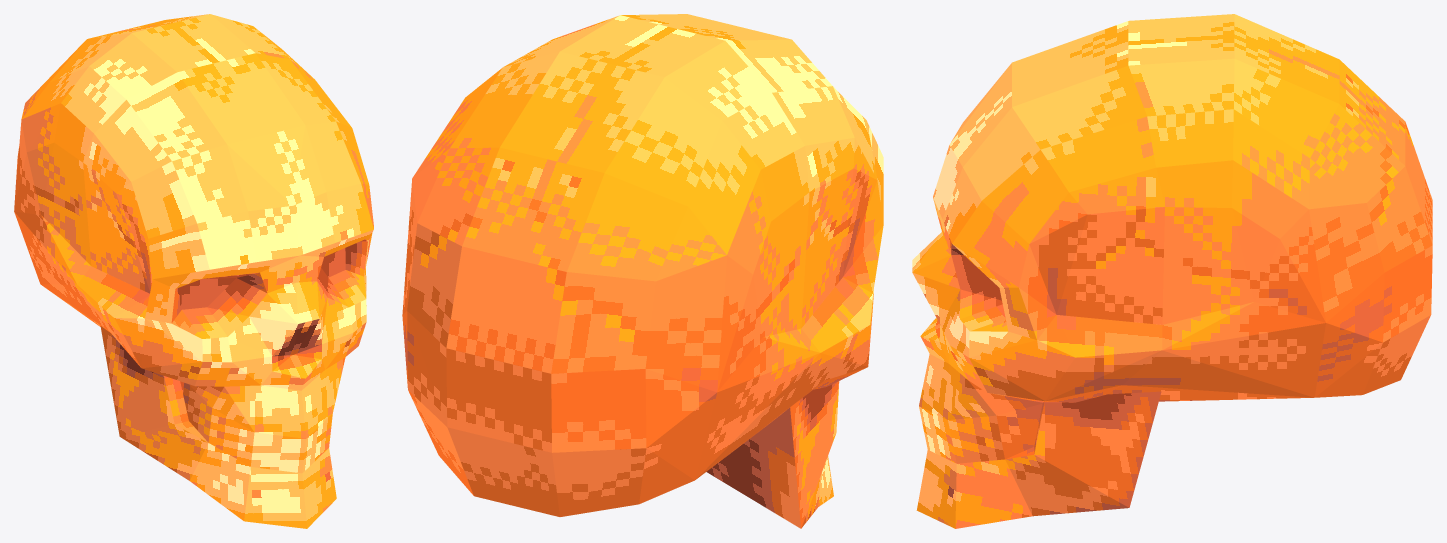
Rendered from retroBall.glb.
The picture shows the model from 3 angles, left to right: view 1: azimuth 30°, elevation 25°; view 2: azimuth 150°, elevation 25°; view 3: azimuth 270°, elevation 25°; orthographic projection. The views are drawn at different scales.
Parts seen in each view (by area): view 1: model_1; view 2: model_1; view 3: model_1.
Boxes of the visible parts, bbox=[...] form: model_1: bbox=[14, 14, 373, 528]; model_1: bbox=[402, 14, 883, 528]; model_1: bbox=[912, 14, 1432, 528].
Size of the model in its own units: 1.22 by 1.9 by 1.89.
